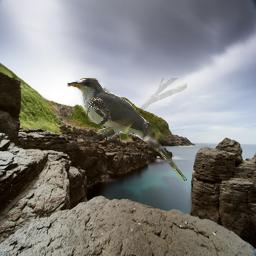Cuckoo: (67, 78, 187, 181)
